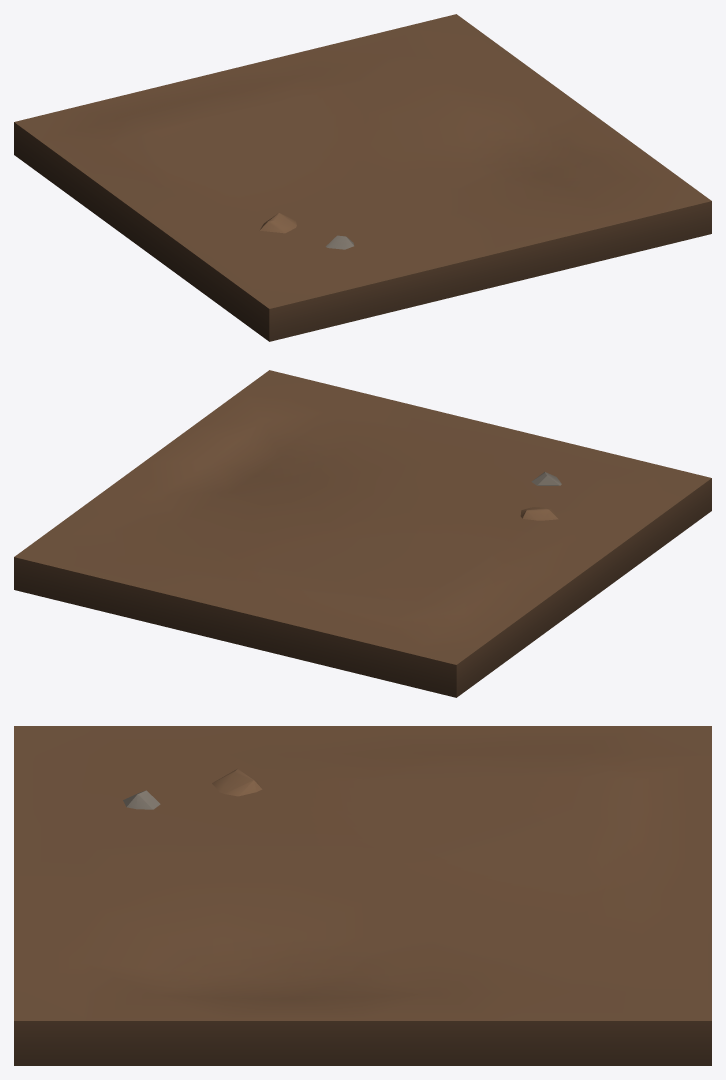
The model's file is floor_earth_small_E.glb.
The picture shows the model from 3 angles, top to bottom: view 1: azimuth 30°, elevation 25°; view 2: azimuth 150°, elevation 25°; view 3: azimuth 270°, elevation 25°; orthographic projection. The views are drawn at different scales.
Parts seen in each view (by area): view 1: Item; view 2: Item; view 3: Item.
Boxes of the visible parts, x1,y1,x2,y2 form: Item: (14, 14, 711, 341); Item: (14, 370, 711, 697); Item: (14, 726, 711, 1065).
Size of the model in its own units: 2 by 0.1834 by 2.
Materials: 1 (1 with a texture image).
